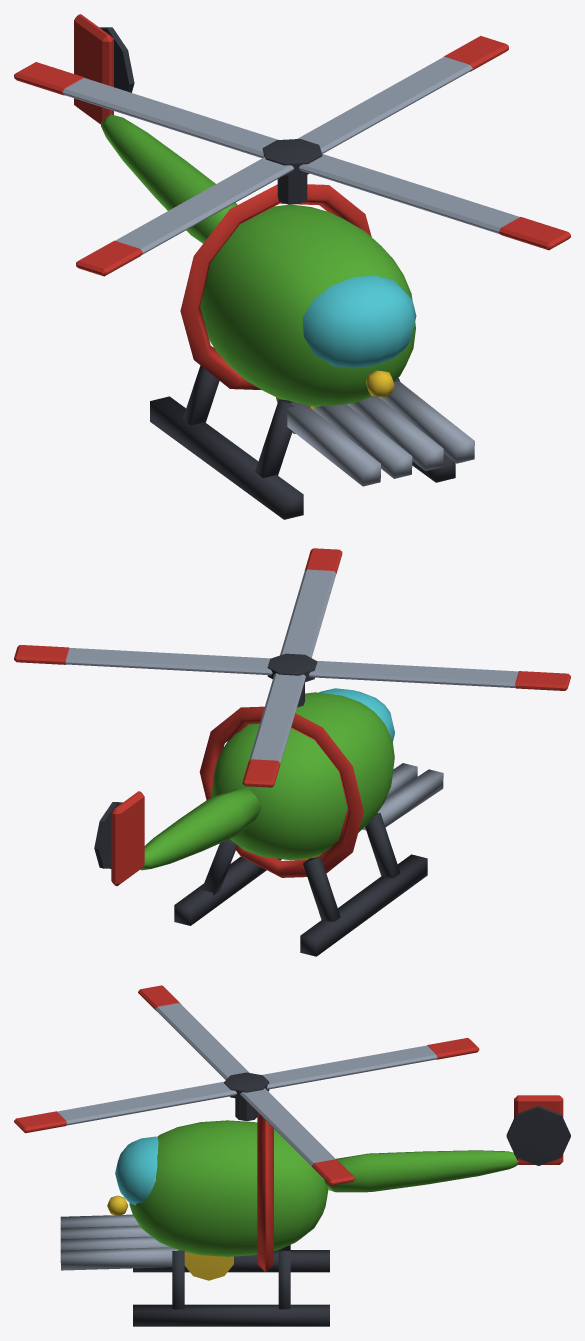
3 views of the same model, one above another, from view 1: azimuth 30°, elevation 25°; view 2: azimuth 150°, elevation 25°; view 3: azimuth 270°, elevation 25° (orthographic). The views are drawn at different scales.
Parts seen in each view (by area): view 1: heli_0_base, heli_1_torreta; view 2: heli_0_base, heli_1_torreta; view 3: heli_0_base, heli_1_torreta.
Part boxes in pixels (x1,y1,x2,y2): heli_0_base: (74, 14, 474, 519); heli_1_torreta: (14, 36, 570, 276); heli_0_base: (94, 688, 443, 956); heli_1_torreta: (14, 548, 570, 787); heli_0_base: (60, 1095, 570, 1326); heli_1_torreta: (14, 985, 479, 1185).
Size of the model in its own units: 1.23 by 0.632 by 1.47.
